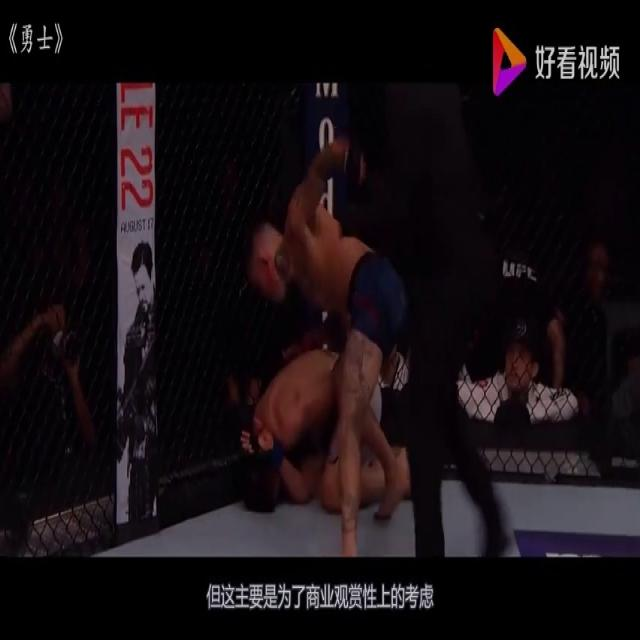fight: (231, 136, 411, 560)
